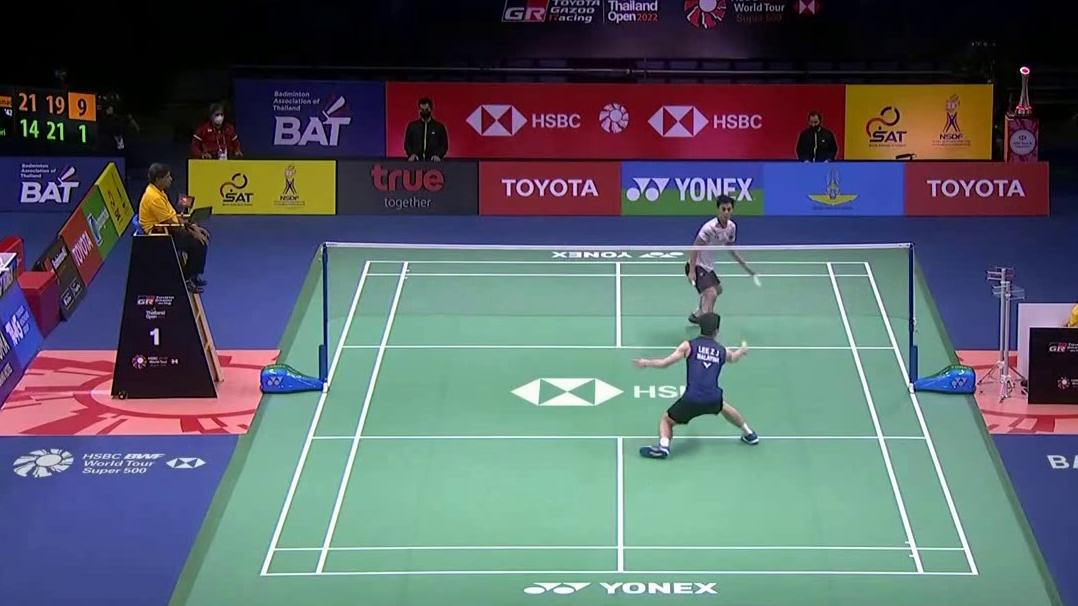racket: (691, 278, 713, 314), (740, 338, 750, 356)
shuttle: (751, 272, 763, 288)
